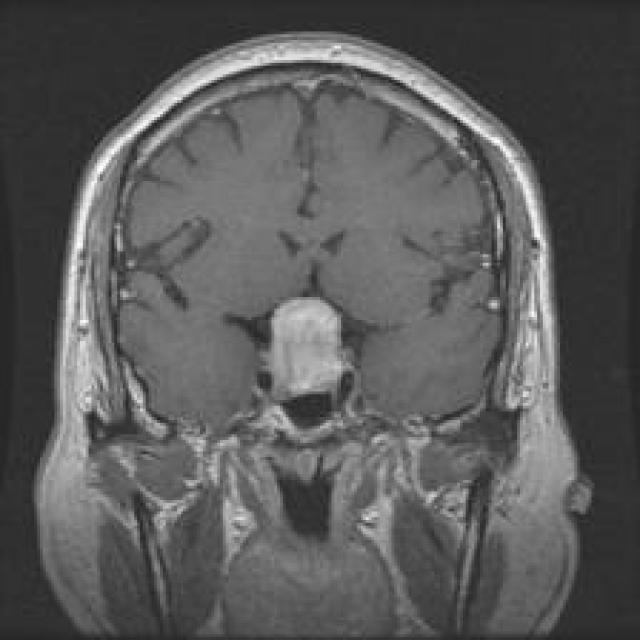pituitary_tumor: (258, 289, 368, 417)
